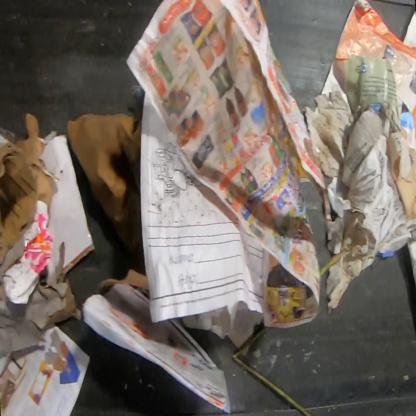cardboard: (66, 107, 145, 266), (0, 113, 57, 268), (387, 134, 415, 221)
